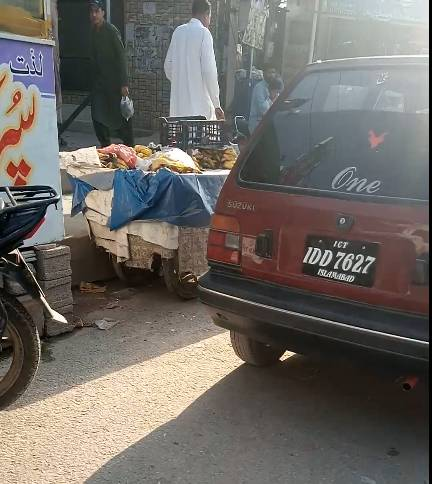number_plate: (298, 232, 386, 292)
